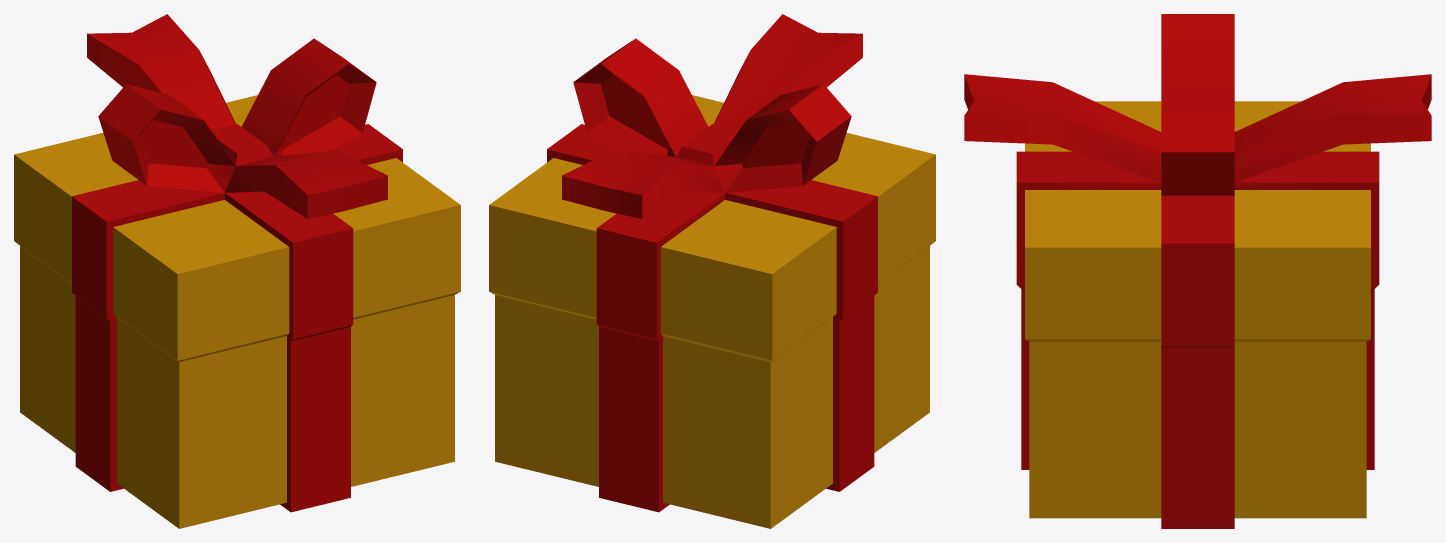
Rendered from gift.dae.
3 views of the same model, side by side, from view 1: azimuth 30°, elevation 25°; view 2: azimuth 150°, elevation 25°; view 3: azimuth 270°, elevation 25° (orthographic). The views are drawn at different scales.
Visible parts, largest first — view 1: Gift; view 2: Gift; view 3: Gift.
Part boxes in pixels (x1,y1,x2,y2): Gift: [14, 14, 460, 528]; Gift: [489, 14, 935, 528]; Gift: [964, 14, 1431, 528].
Bounding box in the file's own units: 0.1147 × 0.1367 × 0.1478.
